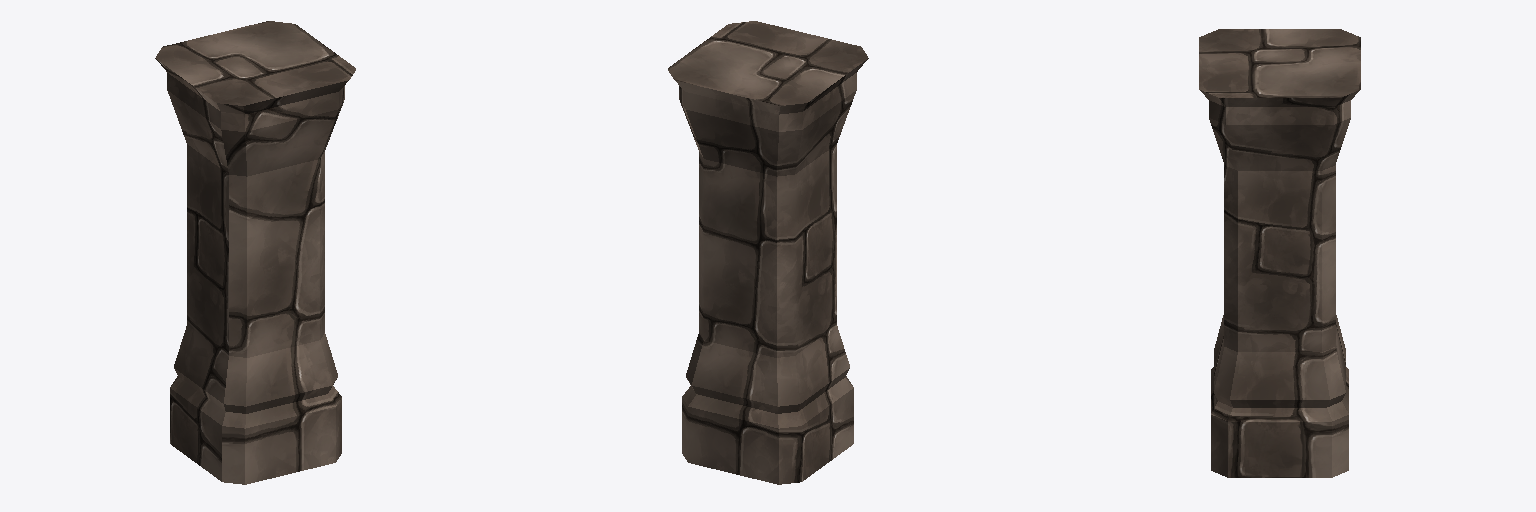
3 views of the same model, side by side, from view 1: azimuth 30°, elevation 25°; view 2: azimuth 150°, elevation 25°; view 3: azimuth 270°, elevation 25° (orthographic).
Visible parts, largest first — view 1: Cube; view 2: Cube; view 3: Cube.
Boxes of the visible parts, <box> form: Cube: <box>155,21,355,484</box>; Cube: <box>668,21,868,484</box>; Cube: <box>1199,29,1360,477</box>.
Bounding box in the file's own units: 2.92 × 7.65 × 2.92.
1 materials, 1 textured.